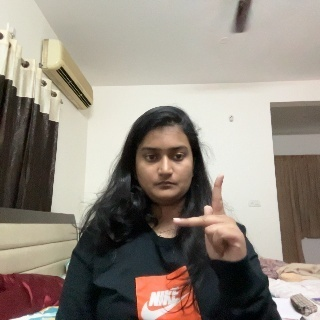Okay: (172, 176, 253, 286)
